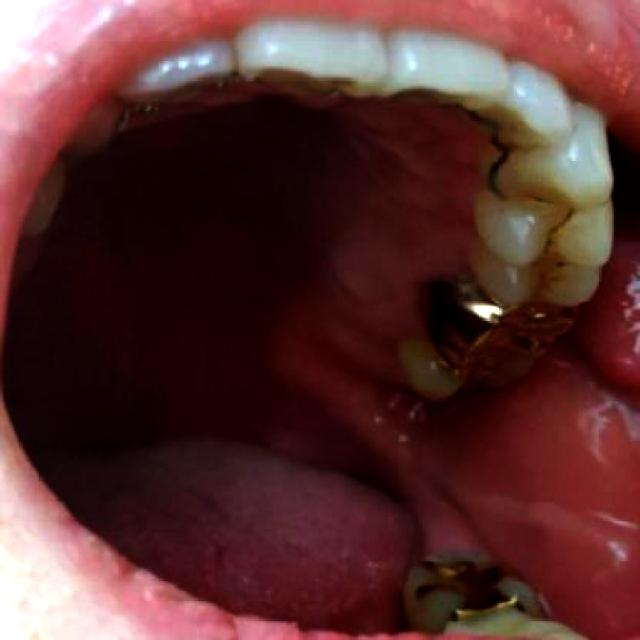Plaque: (531, 199, 586, 265), (526, 248, 579, 299)
